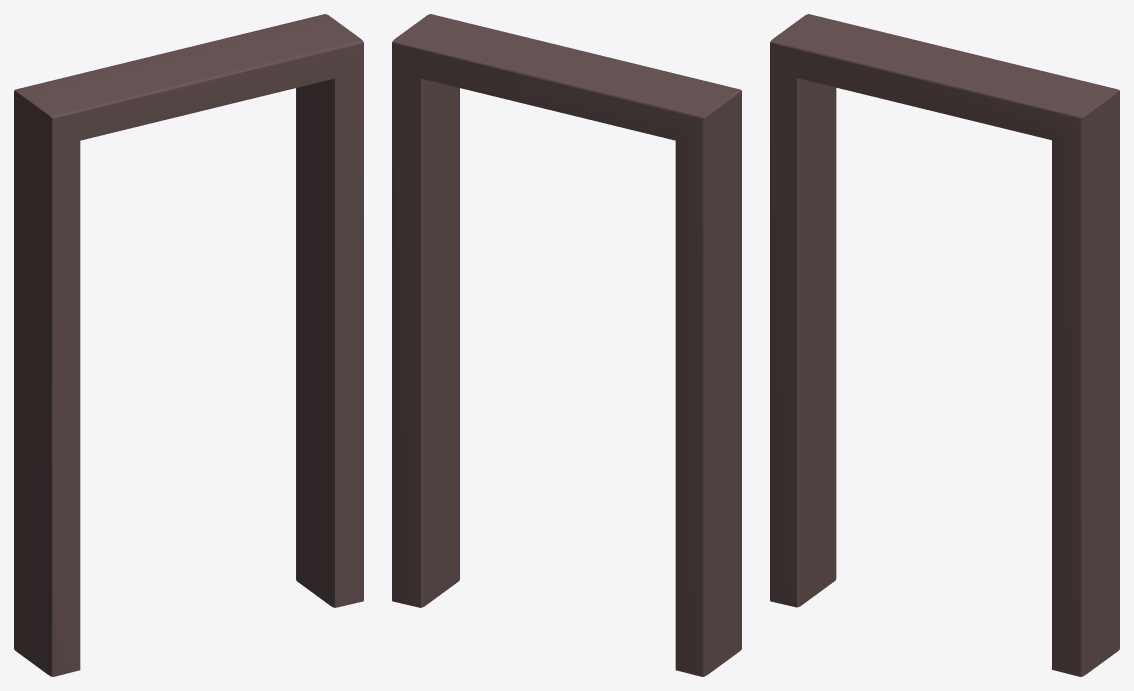
The model's file is max_doorframe_uv.fbx.
The picture shows the model from 3 angles, left to right: view 1: azimuth 30°, elevation 25°; view 2: azimuth 150°, elevation 25°; view 3: azimuth 330°, elevation 25°; orthographic projection.
Parts seen in each view (by area): view 1: Doorframe_UV; view 2: Doorframe_UV; view 3: Doorframe_UV.
Boxes of the visible parts, bbox=[...] form: Doorframe_UV: bbox=[14, 14, 363, 676]; Doorframe_UV: bbox=[392, 14, 741, 676]; Doorframe_UV: bbox=[770, 14, 1119, 676].
Bounding box in the file's own units: 1.24 × 2.12 × 0.2692.
